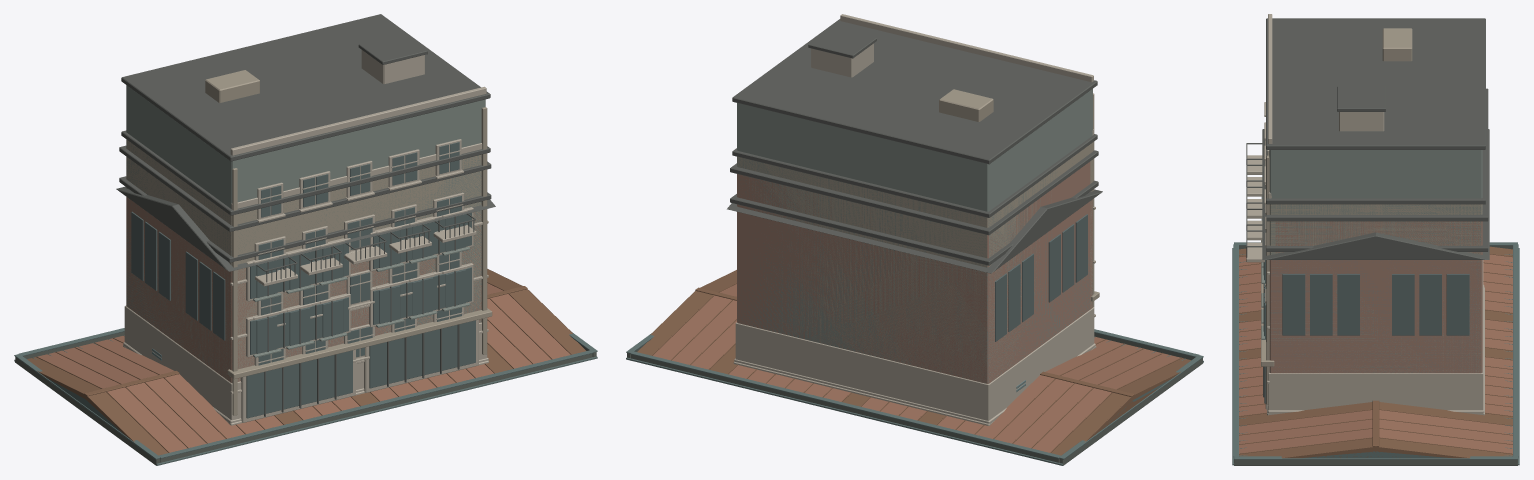
Rendered from residence_architecture.glb.
3 views of the same model, side by side, from view 1: azimuth 30°, elevation 25°; view 2: azimuth 150°, elevation 25°; view 3: azimuth 270°, elevation 25° (orthographic).
Parts seen in each view (by area): view 1: skyline_5_Mesh, skyline_market_Mesh, skyline_4_Mesh, skyline_3_Mesh, roof_clay_Mesh, skyline_atelier_Mesh, roof_slate_Mesh, roof_zinc_Mesh; view 2: skyline_5_Mesh, skyline_3_Mesh, skyline_4_Mesh, skyline_market_Mesh, roof_clay_Mesh, skyline_atelier_Mesh, roof_slate_Mesh, roof_zinc_Mesh; view 3: skyline_5_Mesh, skyline_3_Mesh, roof_clay_Mesh, skyline_market_Mesh, skyline_4_Mesh, skyline_atelier_Mesh, roof_slate_Mesh, roof_zinc_Mesh.
Boxes of the visible parts, <box> form: skyline_5_Mesh: <box>121,14,490,404</box>; skyline_market_Mesh: <box>119,145,492,423</box>; skyline_4_Mesh: <box>121,130,490,409</box>; skyline_3_Mesh: <box>116,186,495,425</box>; roof_clay_Mesh: <box>27,269,585,455</box>; skyline_atelier_Mesh: <box>119,176,491,357</box>; roof_slate_Mesh: <box>14,328,597,465</box>; roof_zinc_Mesh: <box>14,335,597,465</box>; skyline_5_Mesh: <box>732,14,1097,382</box>; skyline_3_Mesh: <box>727,189,1102,425</box>; skyline_4_Mesh: <box>732,129,1097,383</box>; skyline_market_Mesh: <box>730,150,1099,423</box>; roof_clay_Mesh: <box>637,270,1190,455</box>; skyline_atelier_Mesh: <box>730,180,1098,383</box>; roof_slate_Mesh: <box>626,329,1203,465</box>; roof_zinc_Mesh: <box>626,336,1203,465</box>; skyline_5_Mesh: <box>1264,14,1485,372</box>; skyline_3_Mesh: <box>1262,129,1489,415</box>; roof_clay_Mesh: <box>1239,246,1512,458</box>; skyline_market_Mesh: <box>1261,88,1488,413</box>; skyline_4_Mesh: <box>1246,143,1485,399</box>; skyline_atelier_Mesh: <box>1263,156,1488,372</box>; roof_slate_Mesh: <box>1233,242,1518,465</box>; roof_zinc_Mesh: <box>1232,248,1519,465</box>.
Bounding box in the file's own units: 22.59 × 15.13 × 12.66.
